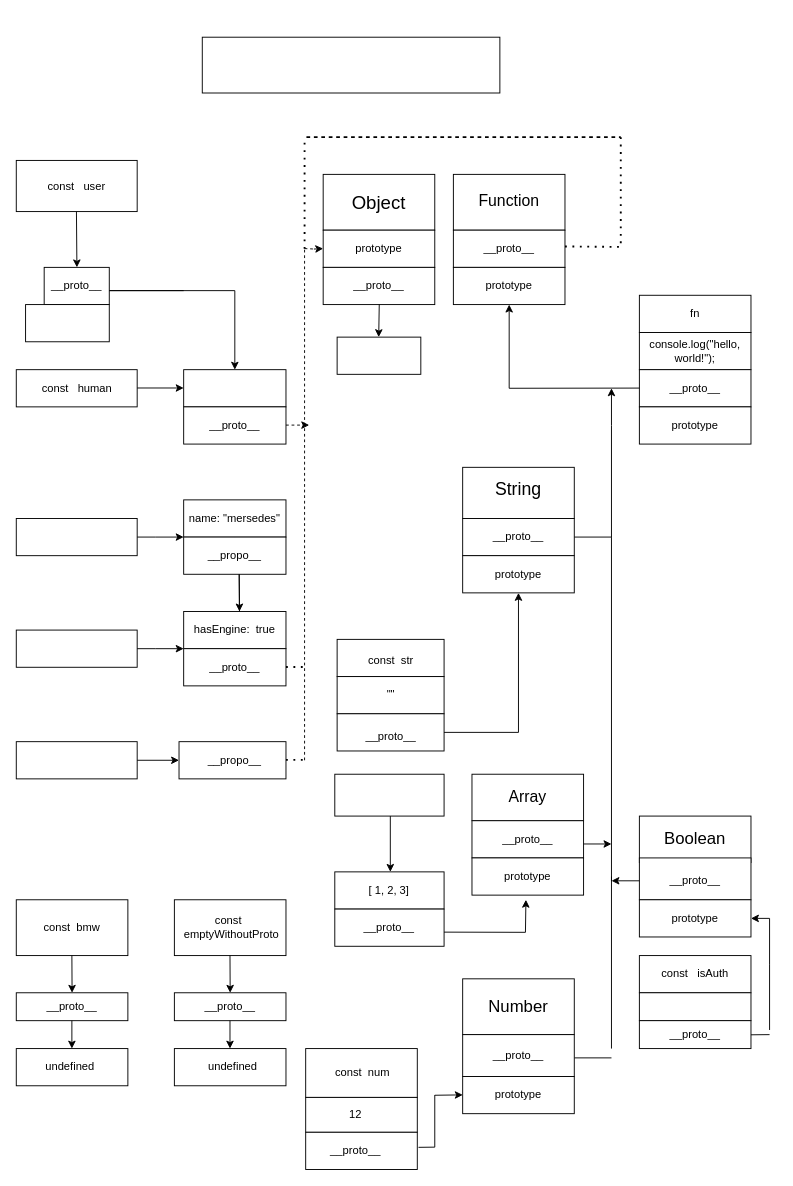
The diagram is 793 pixels wide and 1186 high, and some of its shapes have lost their labels. Each missing label, with the centre of its shape:
const arr: point 389,794
const car: point 76,648
const emptyObj: point 76,760
const mersedes: point 76,537
false: point 694,1006
isHuman: true: point 234,388
name: "John": point 67,323
null: point 378,355
prototype inheritance: point 350,64
